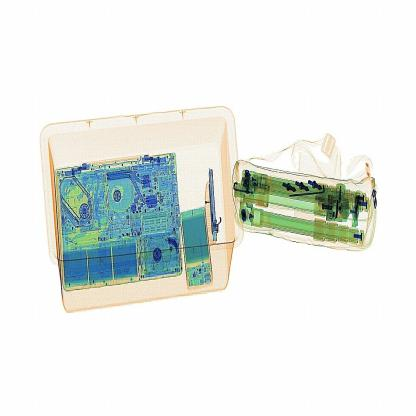pliers: (208, 171, 227, 248)
